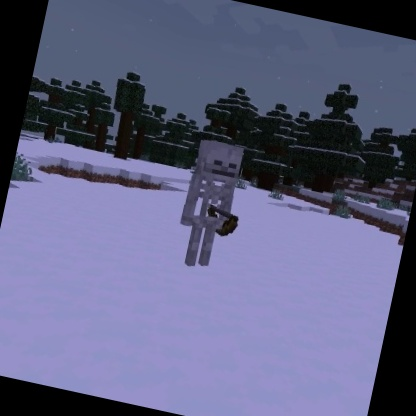skeleton: (167, 133, 257, 279)
